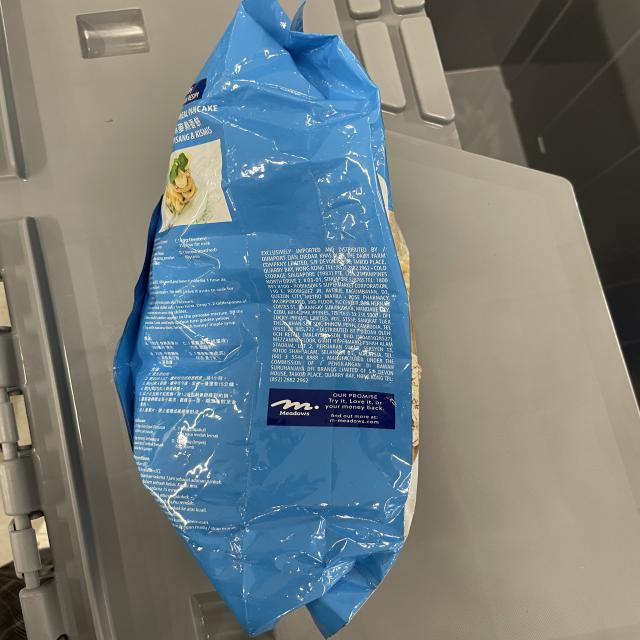object_name: (163, 26, 413, 593)
